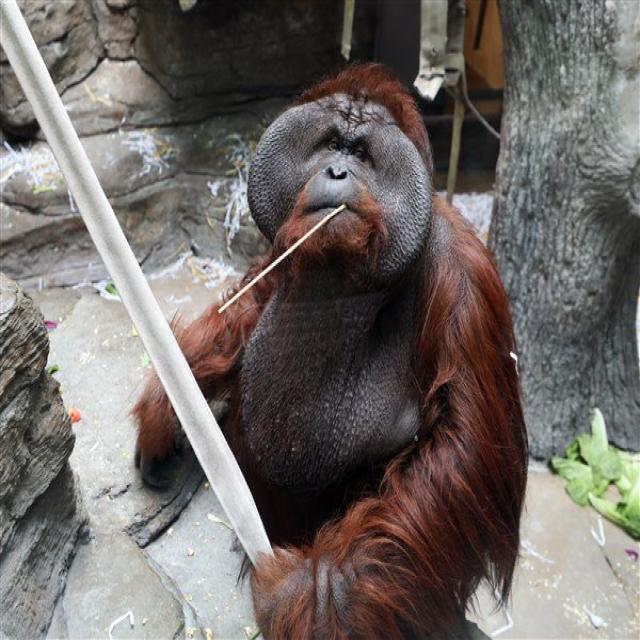Orangutan: (131, 72, 528, 640)
